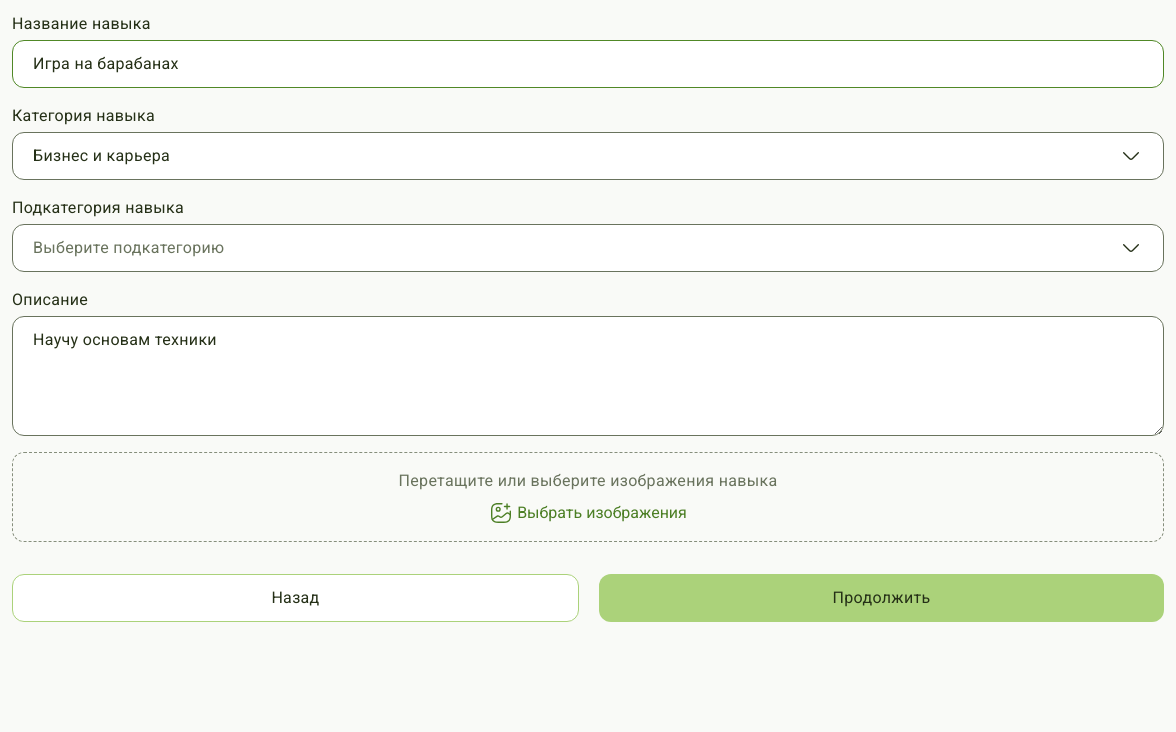
Test: SkillForm › не принимает подкатегорию, которой нет в выбранной категории
What coordinates should you click on to do the following:
click the button "Продолжить"
I would click on:
 (882, 598)
Its box is x1=599 y1=574 x2=1164 y2=622.
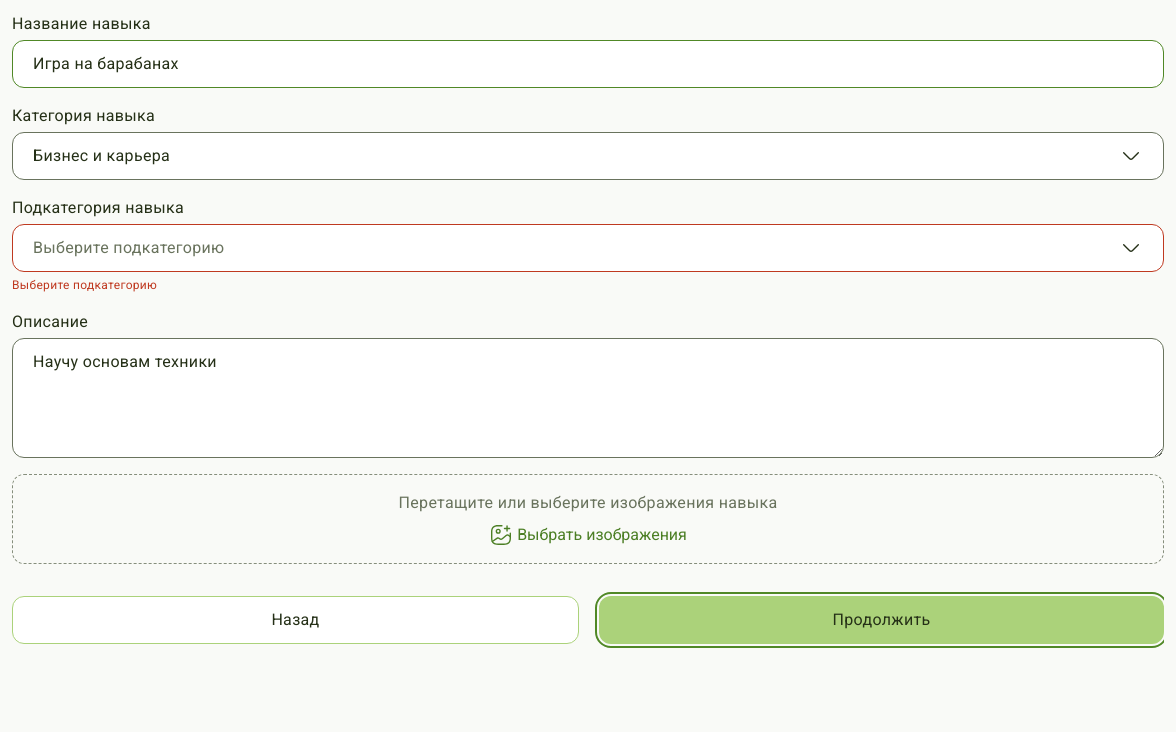
Now the message reads "Выберите подкатегорию", box x1=12 y1=278 x2=157 y2=292
